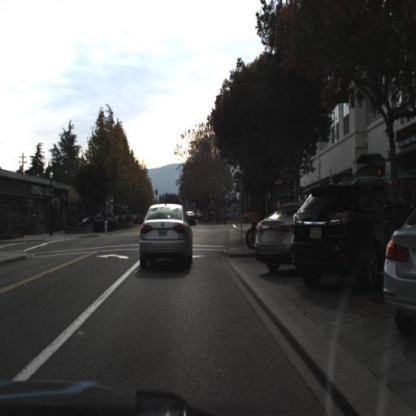car: (293, 178, 411, 289), (140, 202, 195, 270), (254, 202, 294, 276), (78, 214, 109, 235), (187, 211, 196, 227)
pedestrian: (246, 209, 249, 227)
